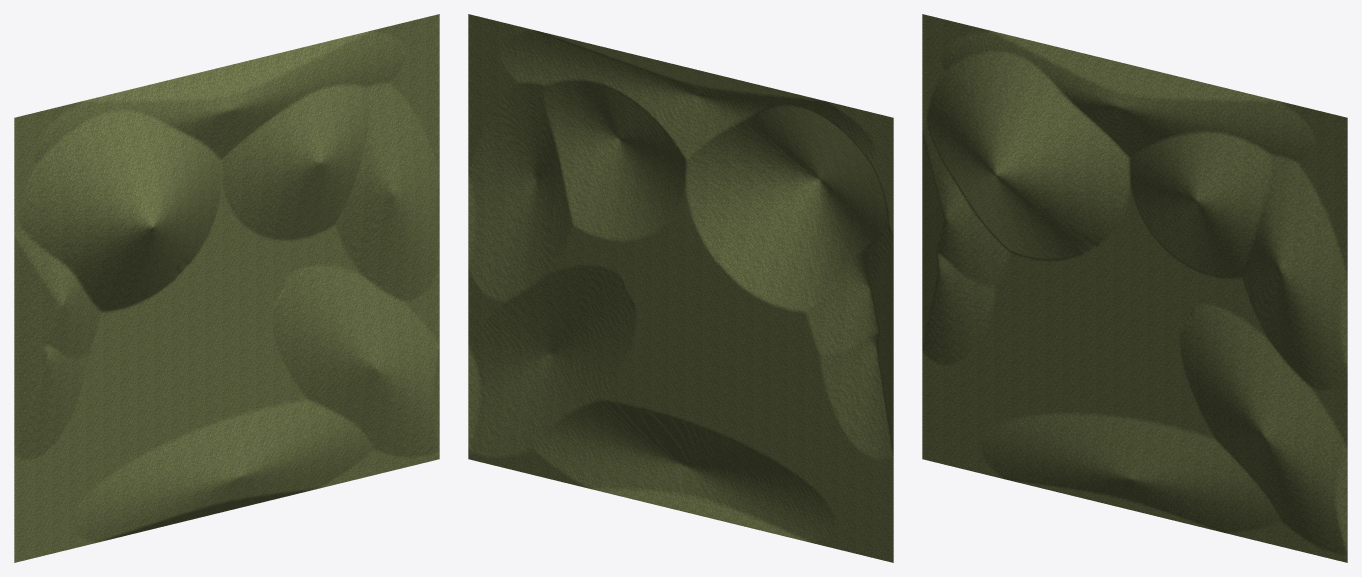
File: ugv_mou_terrain_collision.obj
The picture shows the model from 3 angles, left to right: view 1: azimuth 30°, elevation 25°; view 2: azimuth 150°, elevation 25°; view 3: azimuth 330°, elevation 25°; orthographic projection.
Visible parts, largest first — view 1: ugv_mou_terrain_300m; view 2: ugv_mou_terrain_300m; view 3: ugv_mou_terrain_300m.
Part boxes in pixels (x1,y1,x2,y2): ugv_mou_terrain_300m: [14, 14, 439, 562]; ugv_mou_terrain_300m: [468, 14, 893, 562]; ugv_mou_terrain_300m: [922, 14, 1347, 562].
Size of the model in its own units: 300 by 300 by 40.
